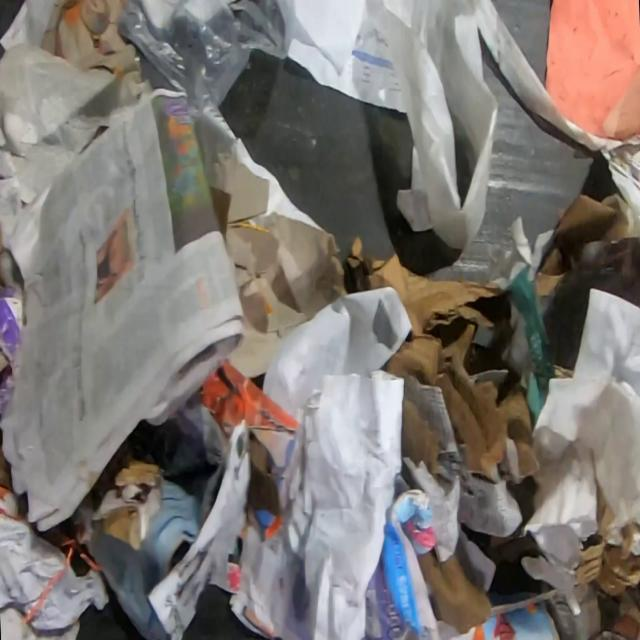cardboard: (344, 234, 539, 485), (214, 150, 349, 377), (534, 191, 629, 296), (91, 438, 164, 551), (197, 356, 297, 429), (574, 487, 640, 596), (247, 434, 279, 515)
soft_plastic: (116, 0, 252, 108)
